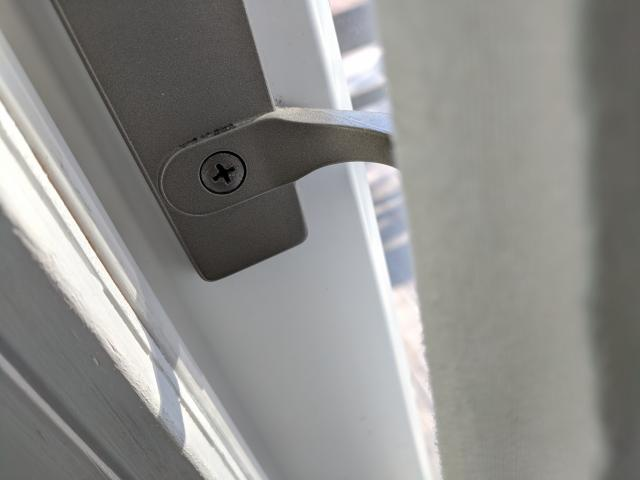CRS: (200, 150, 249, 196)
